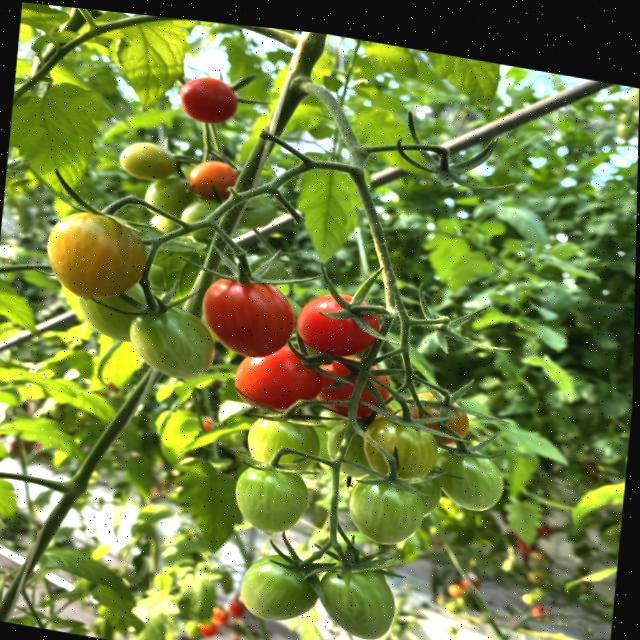ripe0: (41, 203, 148, 308), (127, 299, 217, 383), (318, 551, 399, 640), (344, 467, 428, 552), (237, 546, 323, 629), (232, 459, 311, 538), (434, 445, 507, 516), (245, 410, 322, 474)
ripe2: (199, 271, 297, 363), (295, 286, 379, 361), (233, 347, 324, 413), (178, 72, 241, 128)
